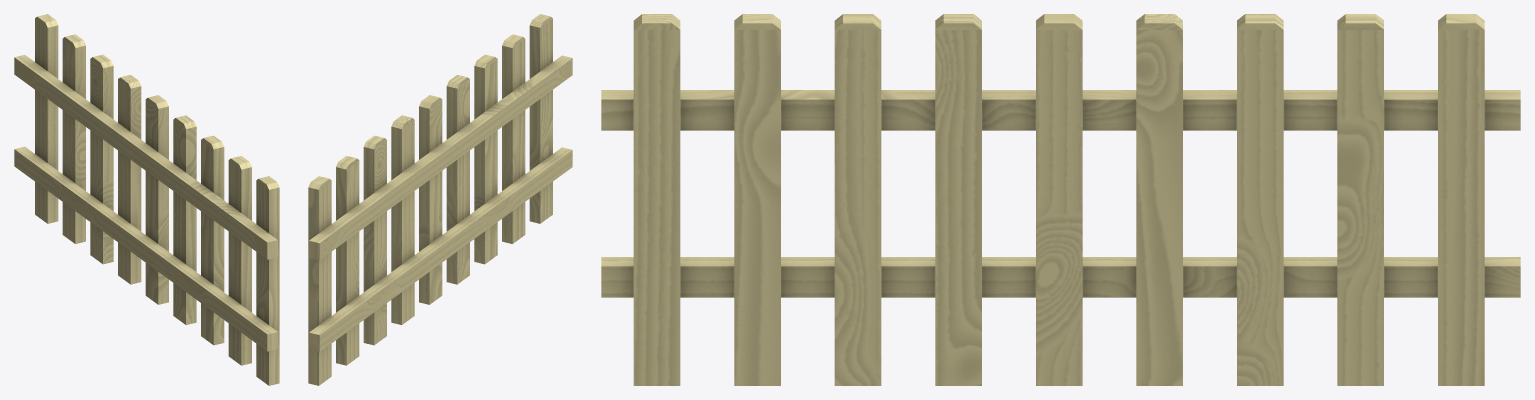
The model's file is 47c2defa-6d35-4145-99d9-4595fb97c8ef.glb.
3 views of the same model, side by side, from view 1: azimuth 30°, elevation 25°; view 2: azimuth 150°, elevation 25°; view 3: azimuth 270°, elevation 25° (orthographic). The views are drawn at different scales.
Parts seen in each view (by area): view 1: PicketFence_mesh; view 2: PicketFence_mesh; view 3: PicketFence_mesh.
Part boxes in pixels (x1,y1,x2,y2): PicketFence_mesh: [14, 14, 279, 385]; PicketFence_mesh: [308, 14, 572, 385]; PicketFence_mesh: [601, 14, 1520, 385].
Bounding box in the file's own units: 0.9501 × 8.57 × 19.69.
1 material, 1 textured.
